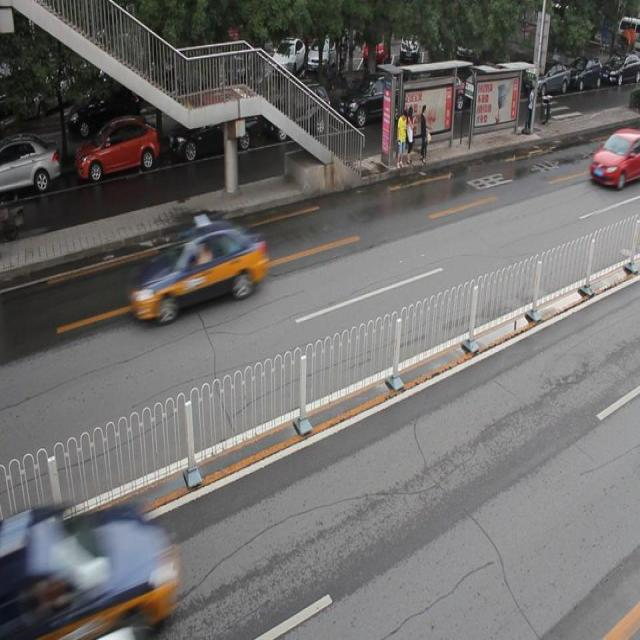car: (11, 503, 176, 640), (126, 214, 266, 324), (168, 94, 257, 158), (74, 119, 158, 182), (336, 72, 407, 129), (265, 86, 329, 142), (1, 137, 58, 197), (589, 128, 640, 188)
